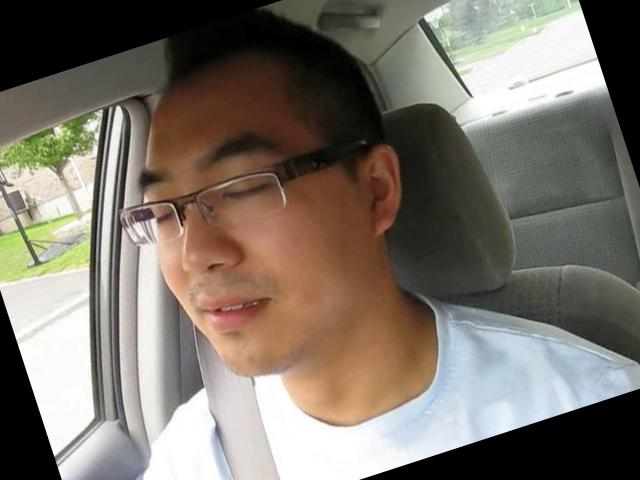eye_closed: (212, 170, 284, 218), (145, 203, 179, 236)
face: (116, 91, 394, 401)
